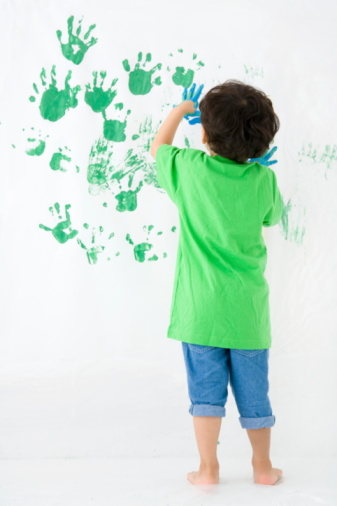em pe: (143, 67, 295, 501)
